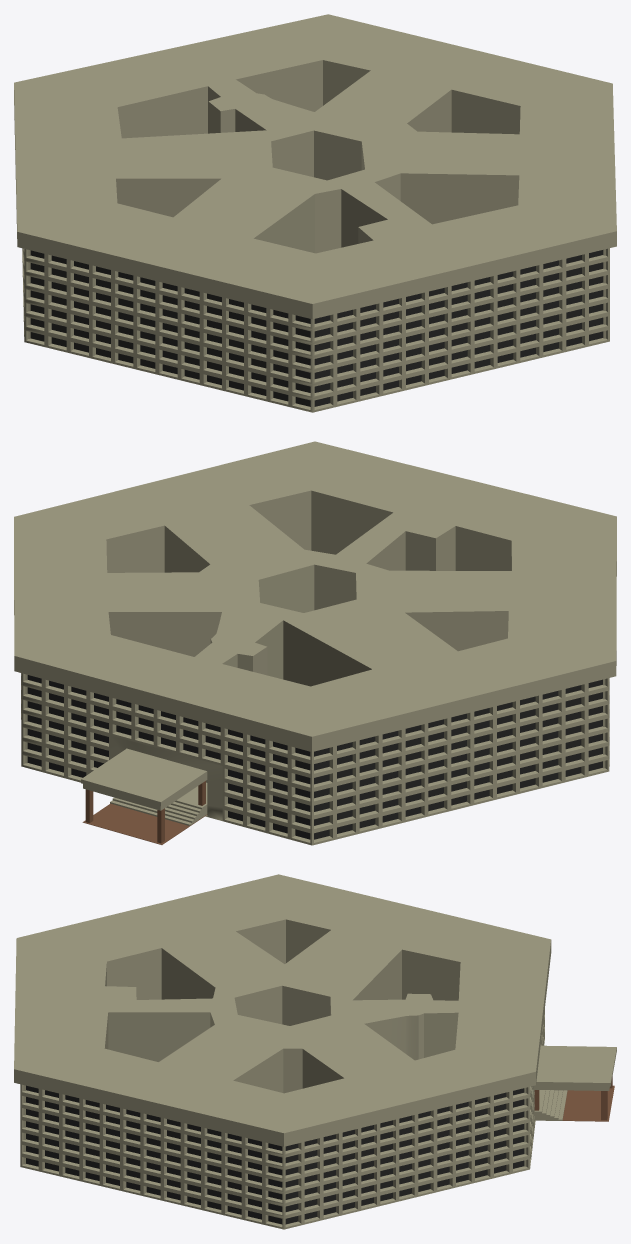
The model's file is smv.dae.
3 views of the same model, one above another, from view 1: azimuth 30°, elevation 25°; view 2: azimuth 150°, elevation 25°; view 3: azimuth 270°, elevation 25° (orthographic). The views are drawn at different scales.
Parts seen in each view (by area): view 1: smv; view 2: smv, Cube, Cube_6, Cube_5; view 3: smv, Cube, Cube_6, Cube_5.
Boxes of the visible parts, left/top/right/bottom form: smv: left=14, top=14, right=616, bottom=412; smv: left=14, top=441, right=616, bottom=845; Cube: left=81, top=748, right=207, bottom=810; Cube_6: left=82, top=803, right=207, bottom=844; Cube_5: left=110, top=782, right=207, bottom=825; smv: left=14, top=874, right=551, bottom=1229; Cube: left=534, top=1045, right=616, bottom=1090; Cube_6: left=562, top=1085, right=614, bottom=1121; Cube_5: left=534, top=1090, right=567, bottom=1120.
Size of the model in its own units: 14.86 by 2.66 by 14.63.
